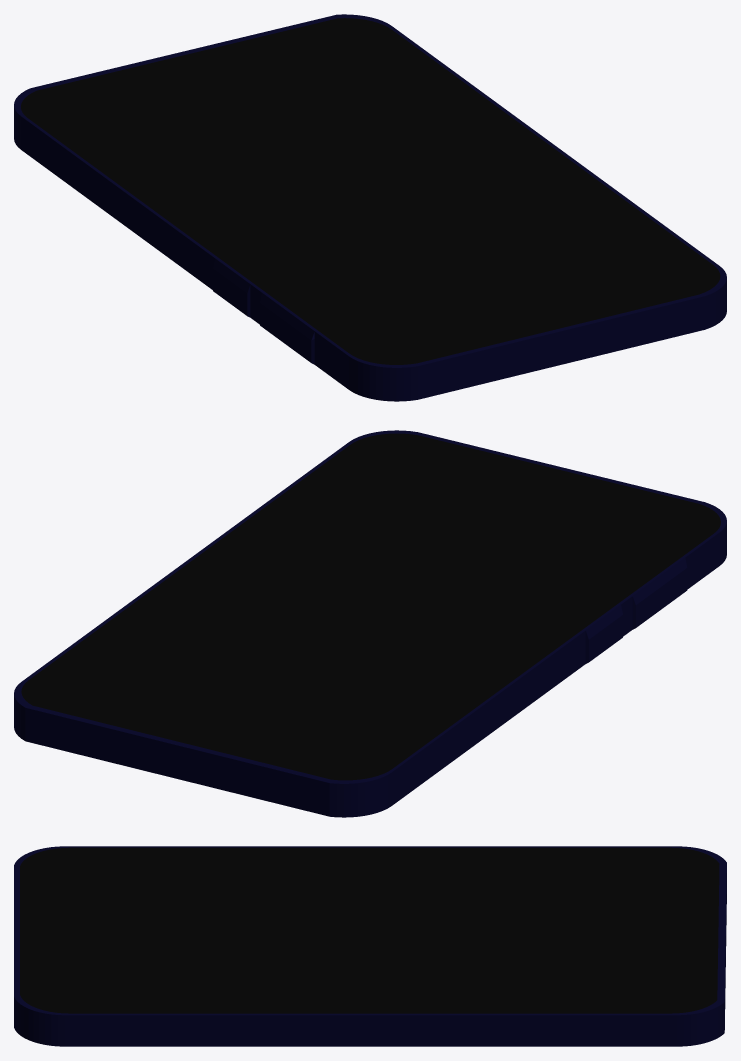
The model's file is Smartphone.fbx.
3 views of the same model, one above another, from view 1: azimuth 30°, elevation 25°; view 2: azimuth 150°, elevation 25°; view 3: azimuth 270°, elevation 25° (orthographic). The views are drawn at different scales.
Visible parts, largest first — view 1: Smartphone; view 2: Smartphone; view 3: Smartphone.
Part boxes in pixels (left/top/right/bottom): Smartphone: left=14, top=14, right=726, bottom=401; Smartphone: left=14, top=430, right=726, bottom=817; Smartphone: left=14, top=846, right=726, bottom=1046.
Size of the model in its own units: 0.0845 by 0.1497 by 0.0097.
